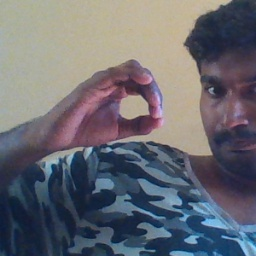O: (44, 56, 168, 157)
